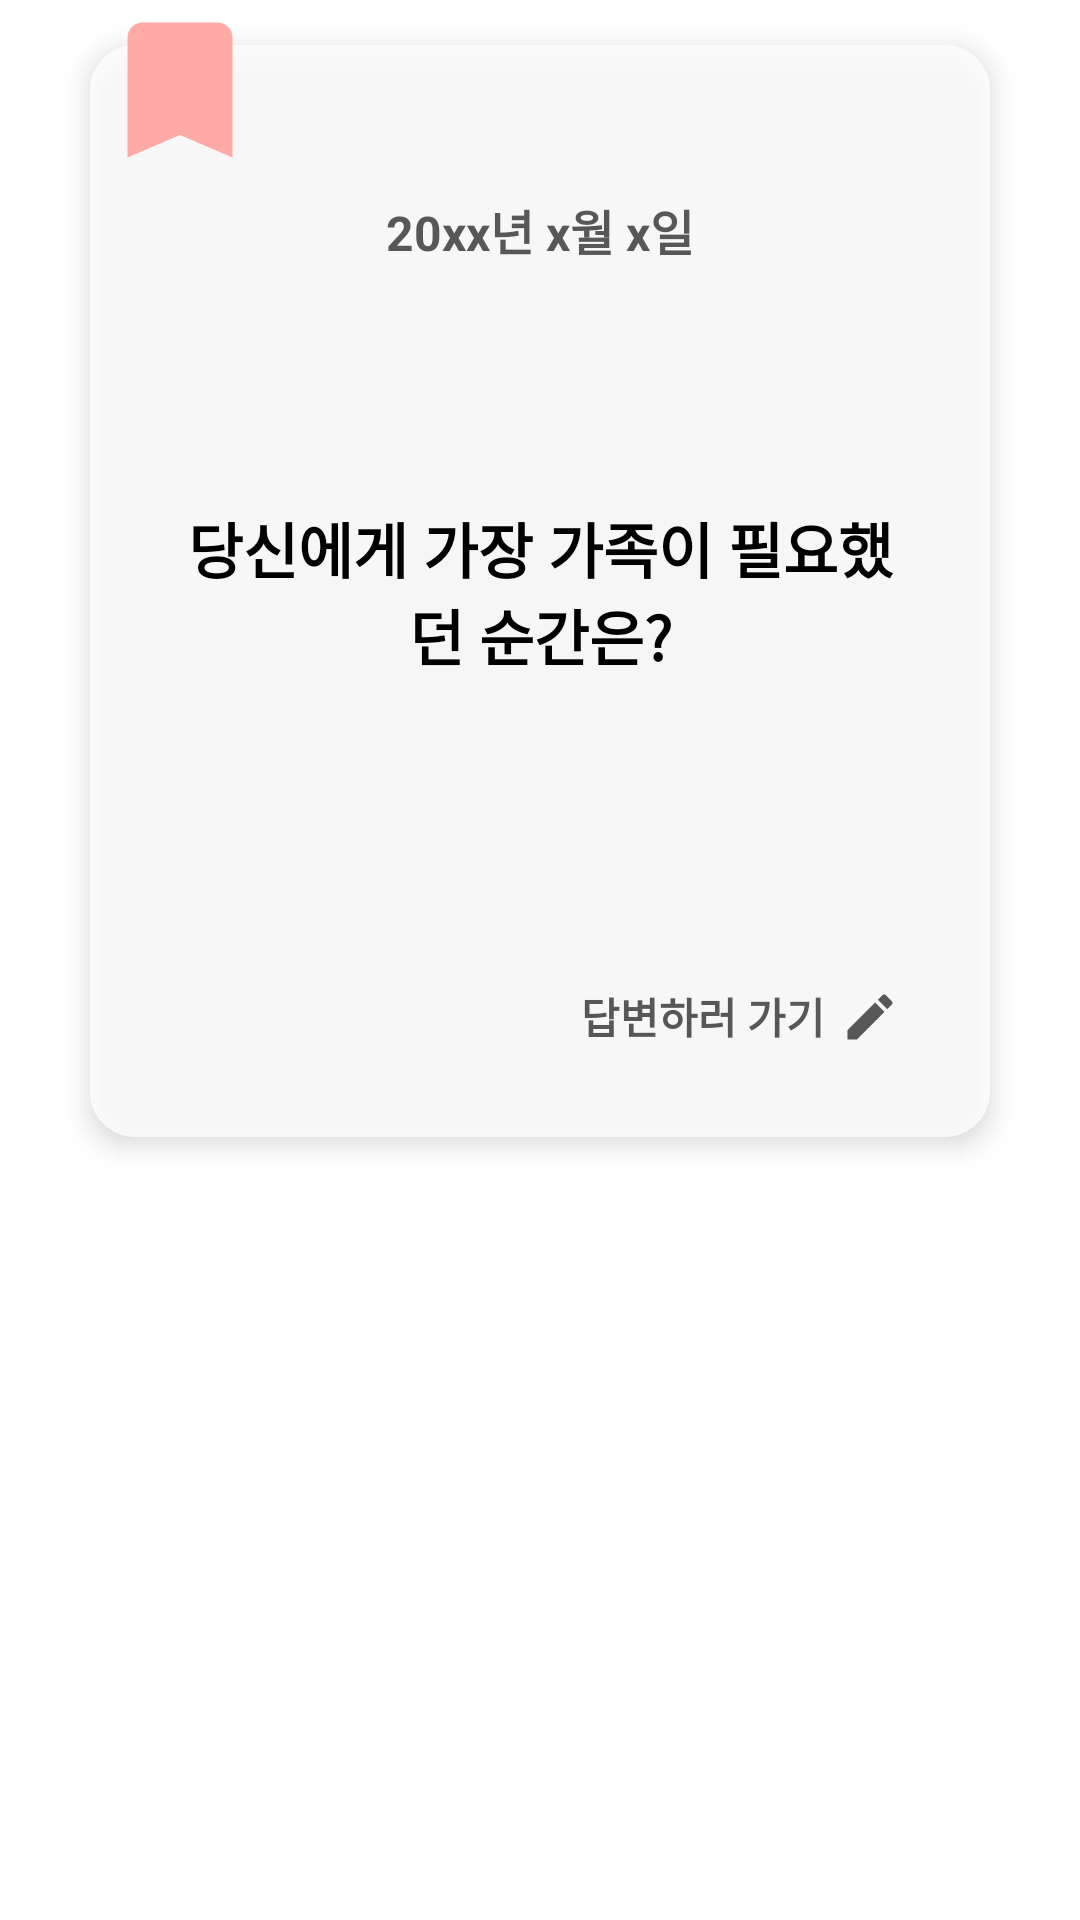

Where icons sit on this 1080x1920 app screen, as (x1, y1, x2, y2):
bookmark: (127, 22, 233, 158)
edit: (847, 994, 893, 1040)
